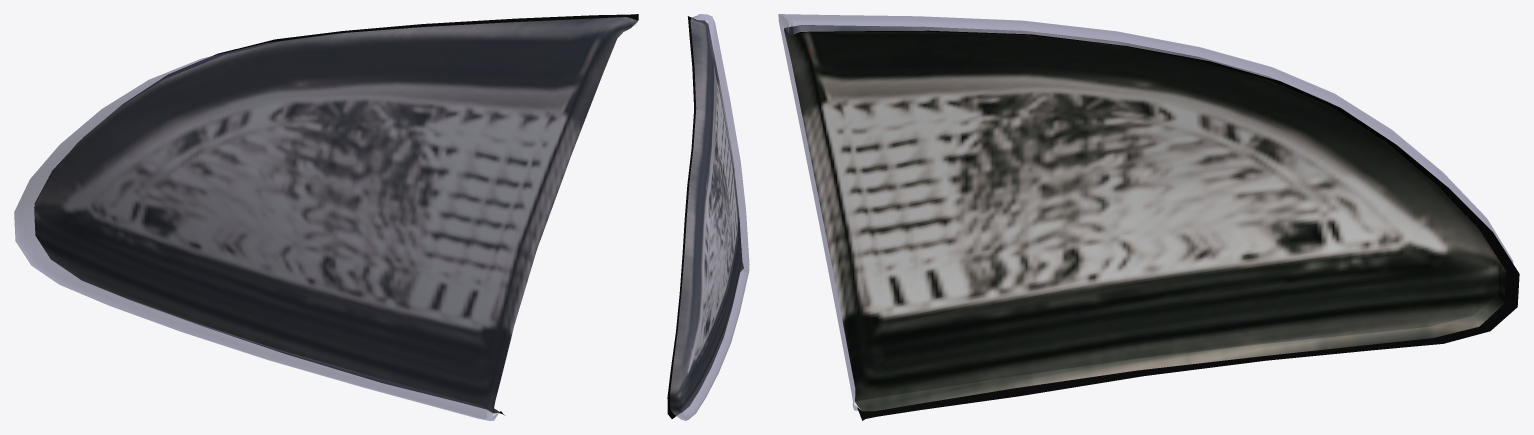
The picture shows the model from 3 angles, left to right: view 1: azimuth 30°, elevation 25°; view 2: azimuth 150°, elevation 25°; view 3: azimuth 270°, elevation 25°; orthographic projection. The views are drawn at different scales.
Parts seen in each view (by area): view 1: D162_541D_R_D162_541D_R_2_DTaSI, D162_541D_R_1_N_D162_541D_R, D162_541D_R_D162_541D_R_3_D; view 2: D162_541D_R_D162_541D_R_2_DTaSI, D162_541D_R_1_N_D162_541D_R, D162_541D_R_D162_541D_R_3_D; view 3: D162_541D_R_1_N_D162_541D_R, D162_541D_R_D162_541D_R_2_DTaSI, D162_541D_R_D162_541D_R_3_D.
Part boxes in pixels (left/top/right/bottom): D162_541D_R_D162_541D_R_2_DTaSI: left=14, top=17, right=637, bottom=420; D162_541D_R_1_N_D162_541D_R: left=34, top=17, right=637, bottom=413; D162_541D_R_D162_541D_R_3_D: left=35, top=14, right=638, bottom=415; D162_541D_R_D162_541D_R_2_DTaSI: left=670, top=14, right=749, bottom=420; D162_541D_R_1_N_D162_541D_R: left=670, top=17, right=743, bottom=414; D162_541D_R_D162_541D_R_3_D: left=667, top=16, right=696, bottom=418; D162_541D_R_1_N_D162_541D_R: left=784, top=25, right=1506, bottom=411; D162_541D_R_D162_541D_R_2_DTaSI: left=778, top=14, right=1513, bottom=410; D162_541D_R_D162_541D_R_3_D: left=794, top=30, right=1519, bottom=420.
Size of the model in its own units: 14.88 by 18.93 by 27.38.
